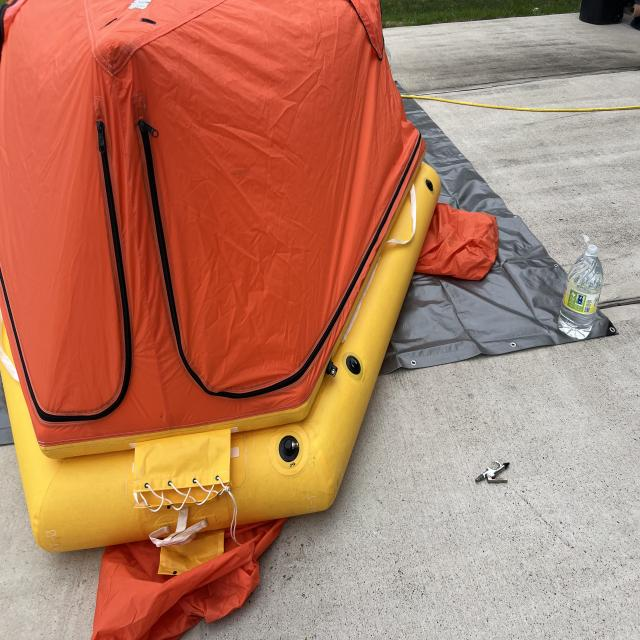Multi-person_life_raft: (0, 0, 498, 639)
